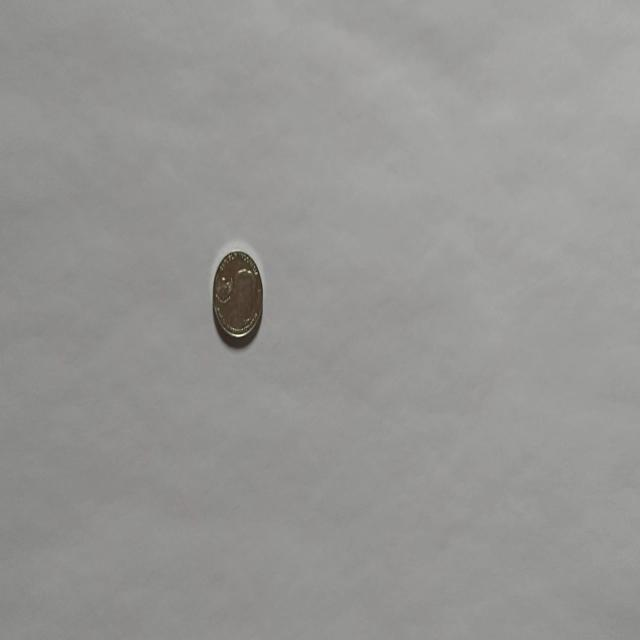seratus rupiah: (211, 248, 263, 342)
